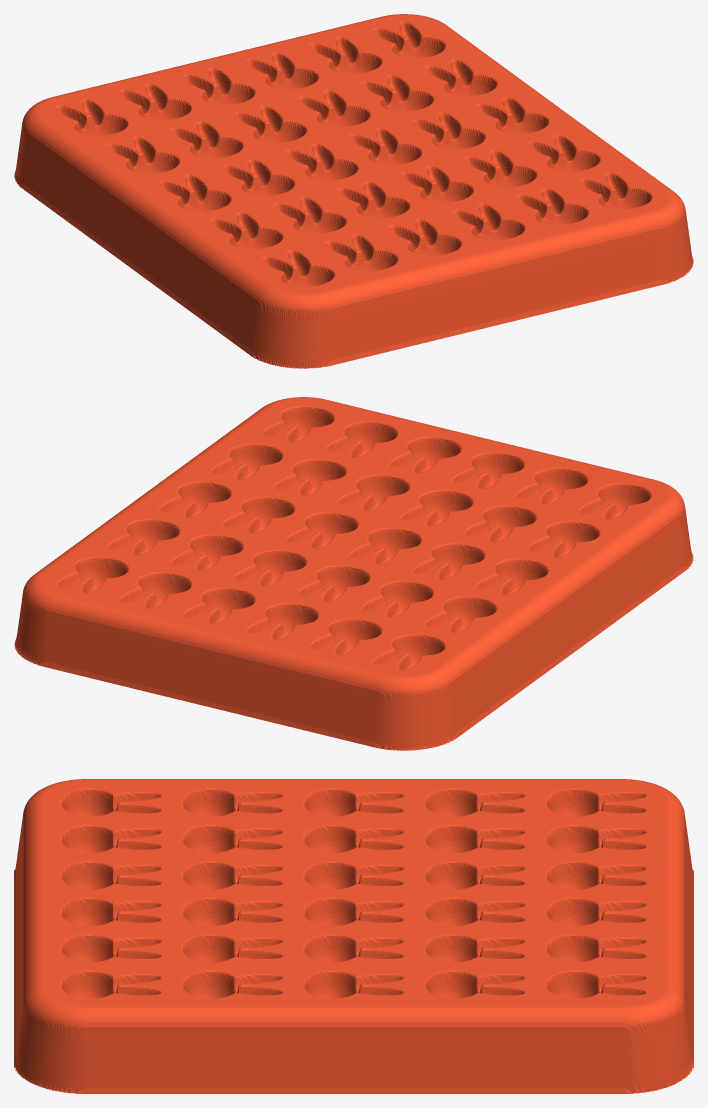
File: mold.glb
3 views of the same model, one above another, from view 1: azimuth 30°, elevation 25°; view 2: azimuth 150°, elevation 25°; view 3: azimuth 270°, elevation 25° (orthographic). The views are drawn at different scales.
Visible parts, largest first — view 1: geometry_0; view 2: geometry_0; view 3: geometry_0.
Boxes of the visible parts, x1,y1,x2,y2 form: geometry_0: [14, 14, 693, 368]; geometry_0: [14, 397, 693, 750]; geometry_0: [14, 779, 693, 1093].
Bounding box in the file's own units: 0.074 × 0.0105 × 0.0852.
